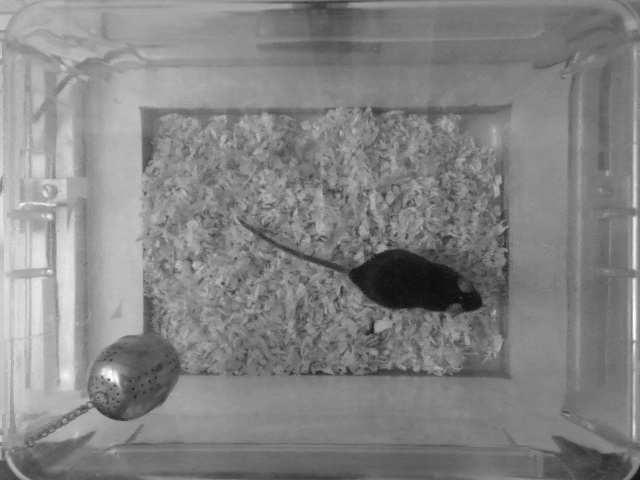mice: (235, 215, 489, 312)
